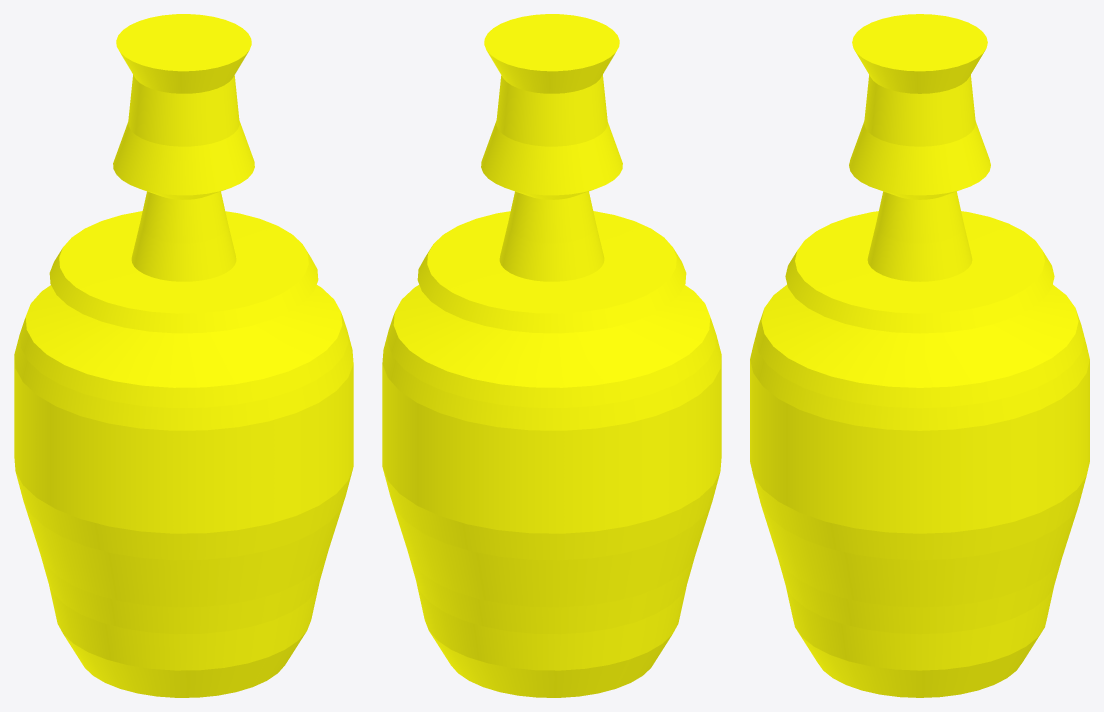
3 renders of one model, left to right at view 1: azimuth 30°, elevation 25°; view 2: azimuth 150°, elevation 25°; view 3: azimuth 270°, elevation 25°, orthographic.
Size of the model in its own units: 254 by 510 by 254.
